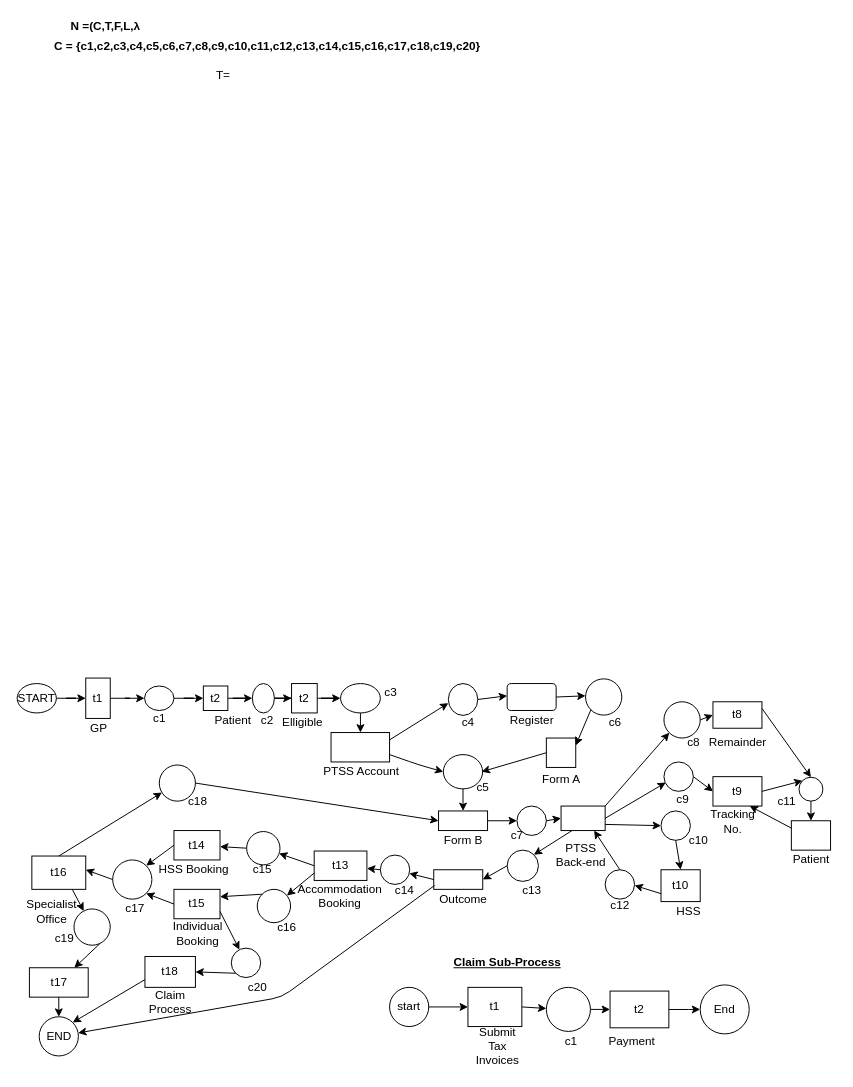
The diagram is 853 pixels wide and 1087 high, and some of its shapes have lost their labels. Each missing label, with the box of its shape:
t11: (790, 820, 831, 850)
t12: (433, 869, 483, 889)
t3: (330, 732, 390, 762)
t4: (506, 683, 556, 710)
t5: (545, 737, 576, 767)
t6: (438, 810, 488, 831)
t7: (560, 805, 605, 831)
